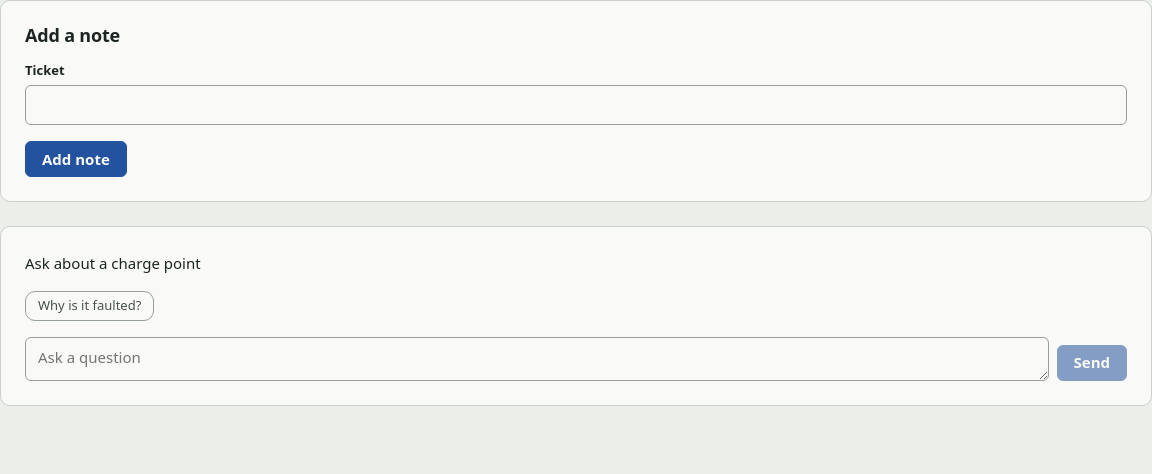
it: running an app › shows a failed question with a way to send it again
Step 1. Click the button "Why is it faulted?" → click(90, 306), box [25,291,154,321]
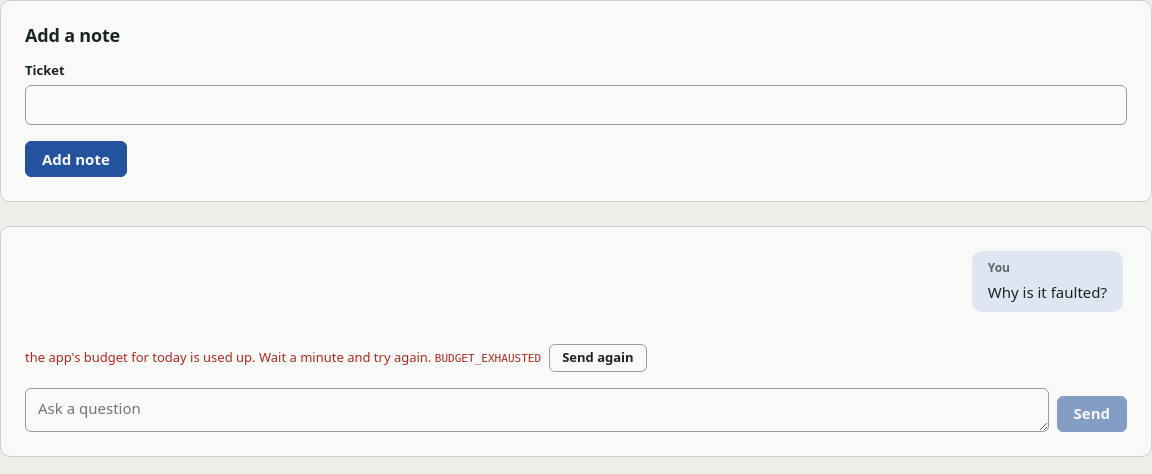
Now the message shows "BUDGET_EXHAUSTED", box [435,352,541,365]
Now the button "Send again" is shown, box [549,344,647,372]
